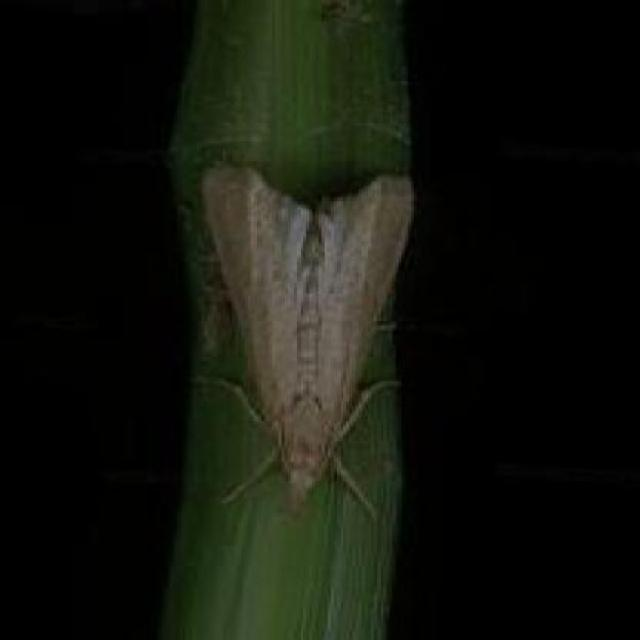stem-borer: (198, 164, 402, 519)
